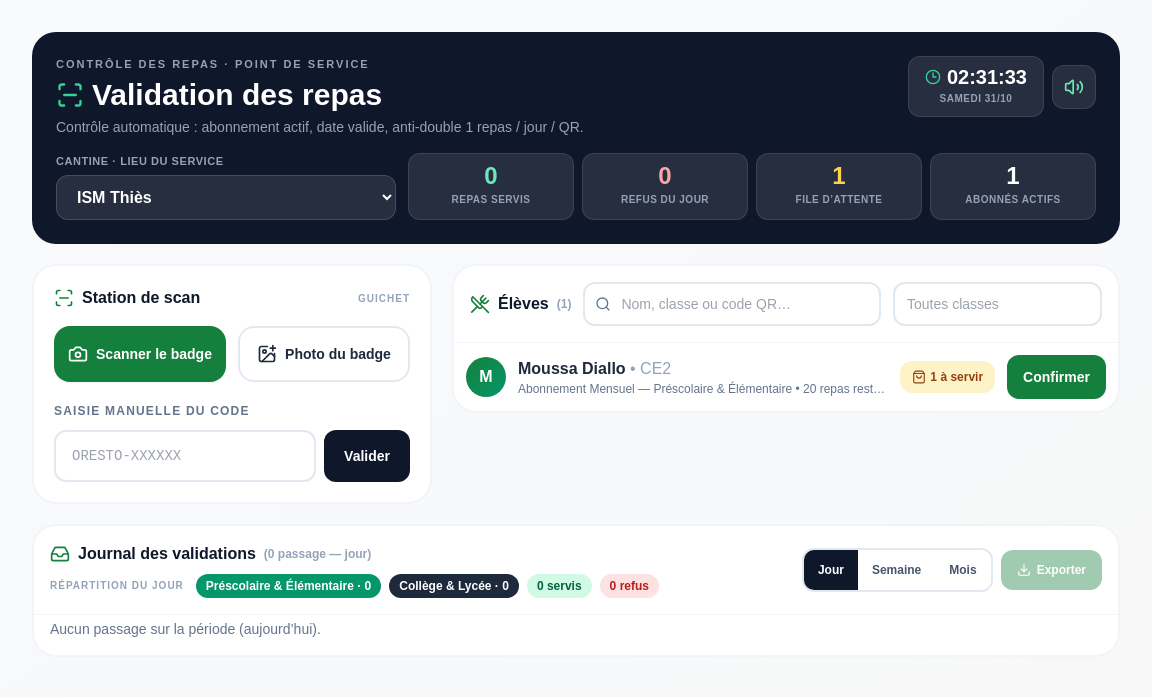
Test: Poste de service — ValidationPage (espace Personnel) › une commande payée par carte remonte dans la file « à servir » du guichet
Check: the 1st text "1" is shown, box top-left (832, 162), bottom-right (846, 188)
Note: Ouvrir le dossier de l’élève : la commande est servie d’un clic.
Click the text "1 à servir": (948,377) top-left (900, 361), bottom-right (995, 393)
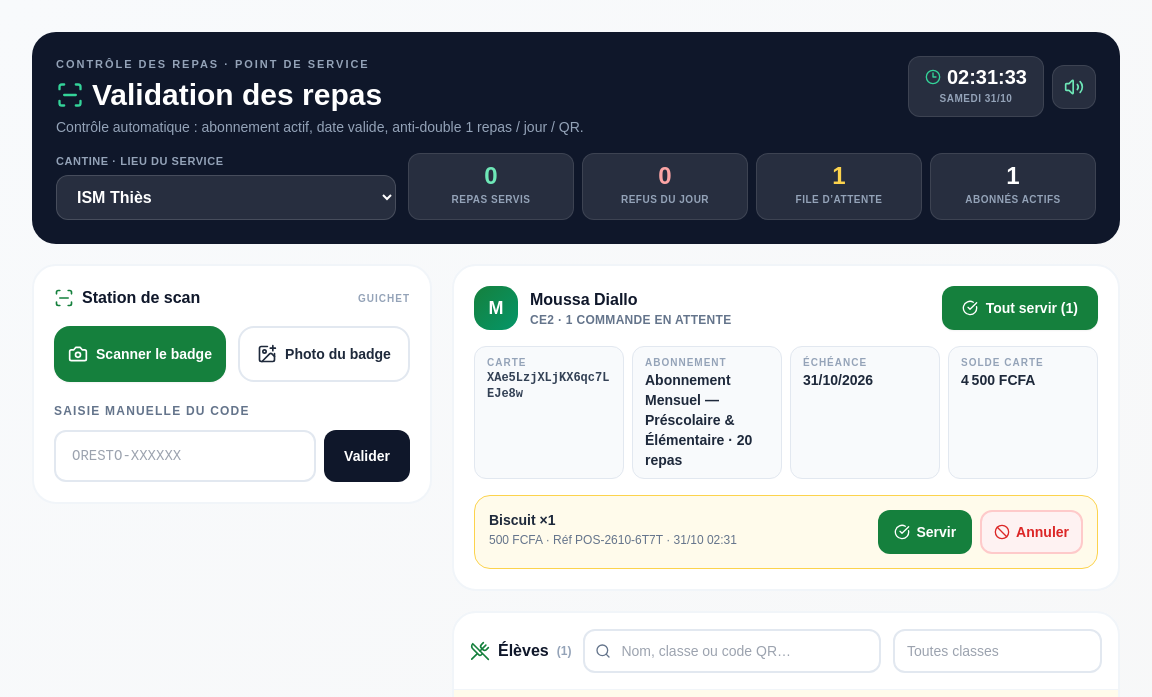
Click the button "Tout servir (1)": (1020,308) top-left (942, 286), bottom-right (1098, 330)
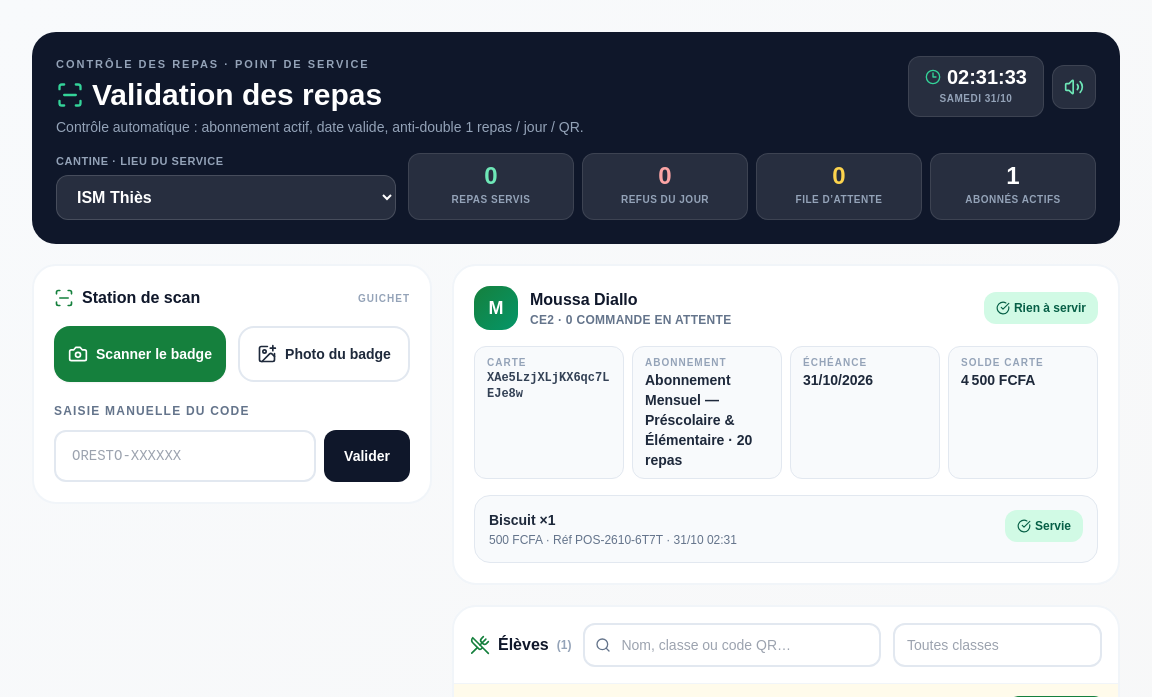
Check: the text "Rien à servir" is shown, box top-left (984, 292), bottom-right (1098, 324)
